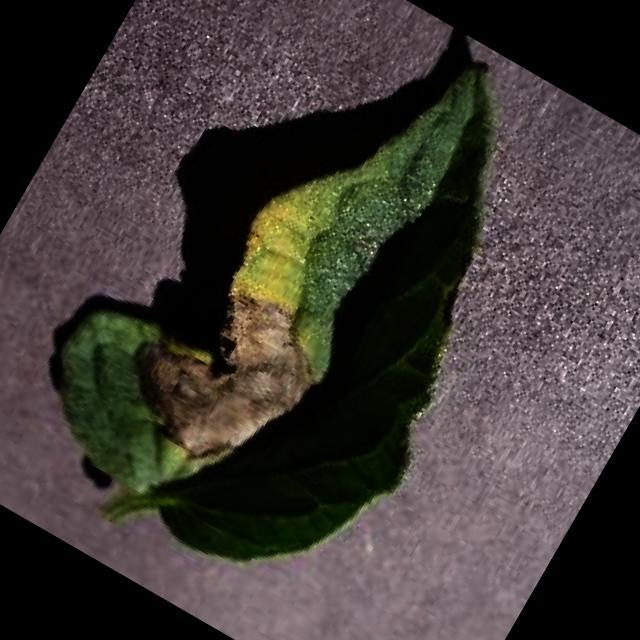Tomato Early blight leaf: (1, 0, 602, 623)
